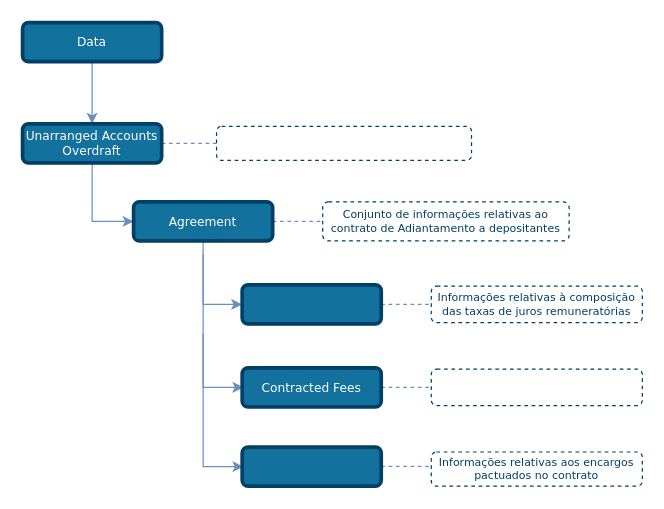
Image size: 664x509. Some labels were removed from this diagram. The centre of each missing label's shape, as x and y in pixels:
"Conjunto das informações de Operações de Crédito de Adiantamento a depositantes" goes at [343,142].
"Contracted Finance Charges" goes at [311,466].
"Informações relativas às tarifas pactuadas no contrato" goes at [536,387].
"Interest Rates" goes at [311,303].
